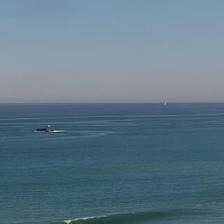surfer: (69, 220, 74, 224)
